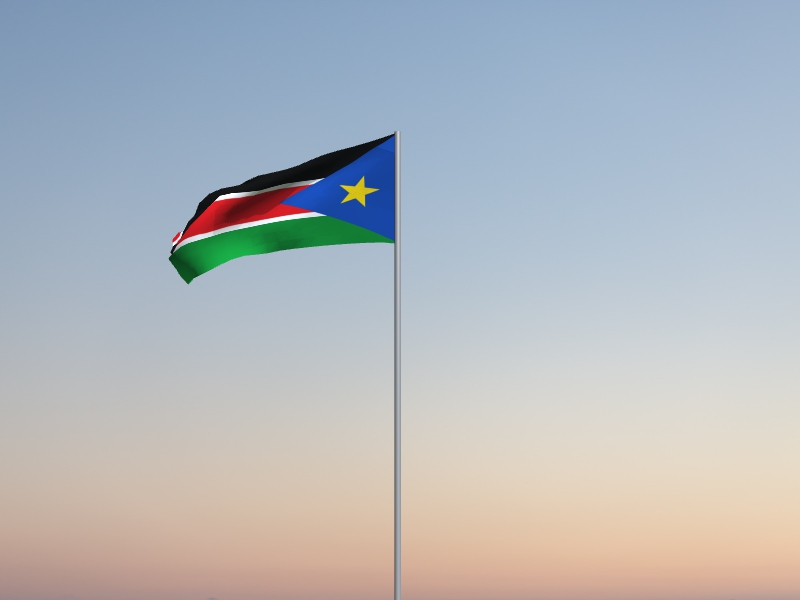ss: (168, 133, 395, 286)
